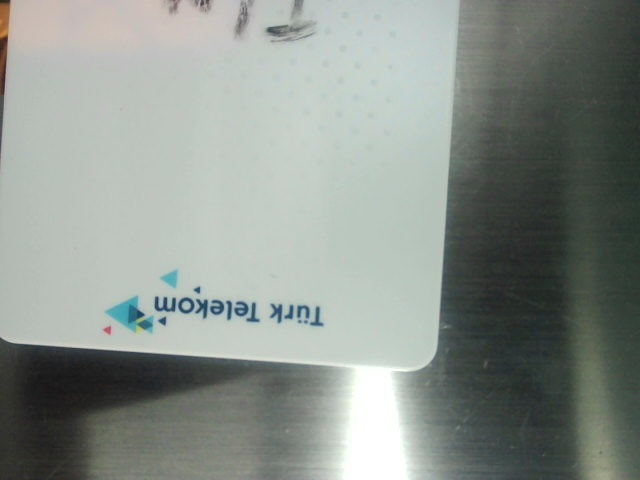AQ_TURKTelekom: (96, 259, 327, 347)
